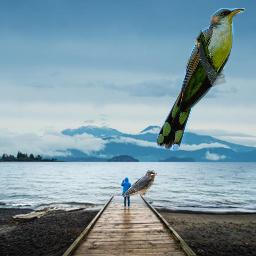Cuckoo: (157, 8, 245, 151)
Swallow: (122, 170, 157, 198)
